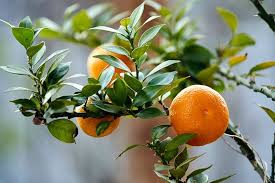orange: (169, 82, 229, 148), (72, 92, 120, 139), (87, 45, 135, 89)
